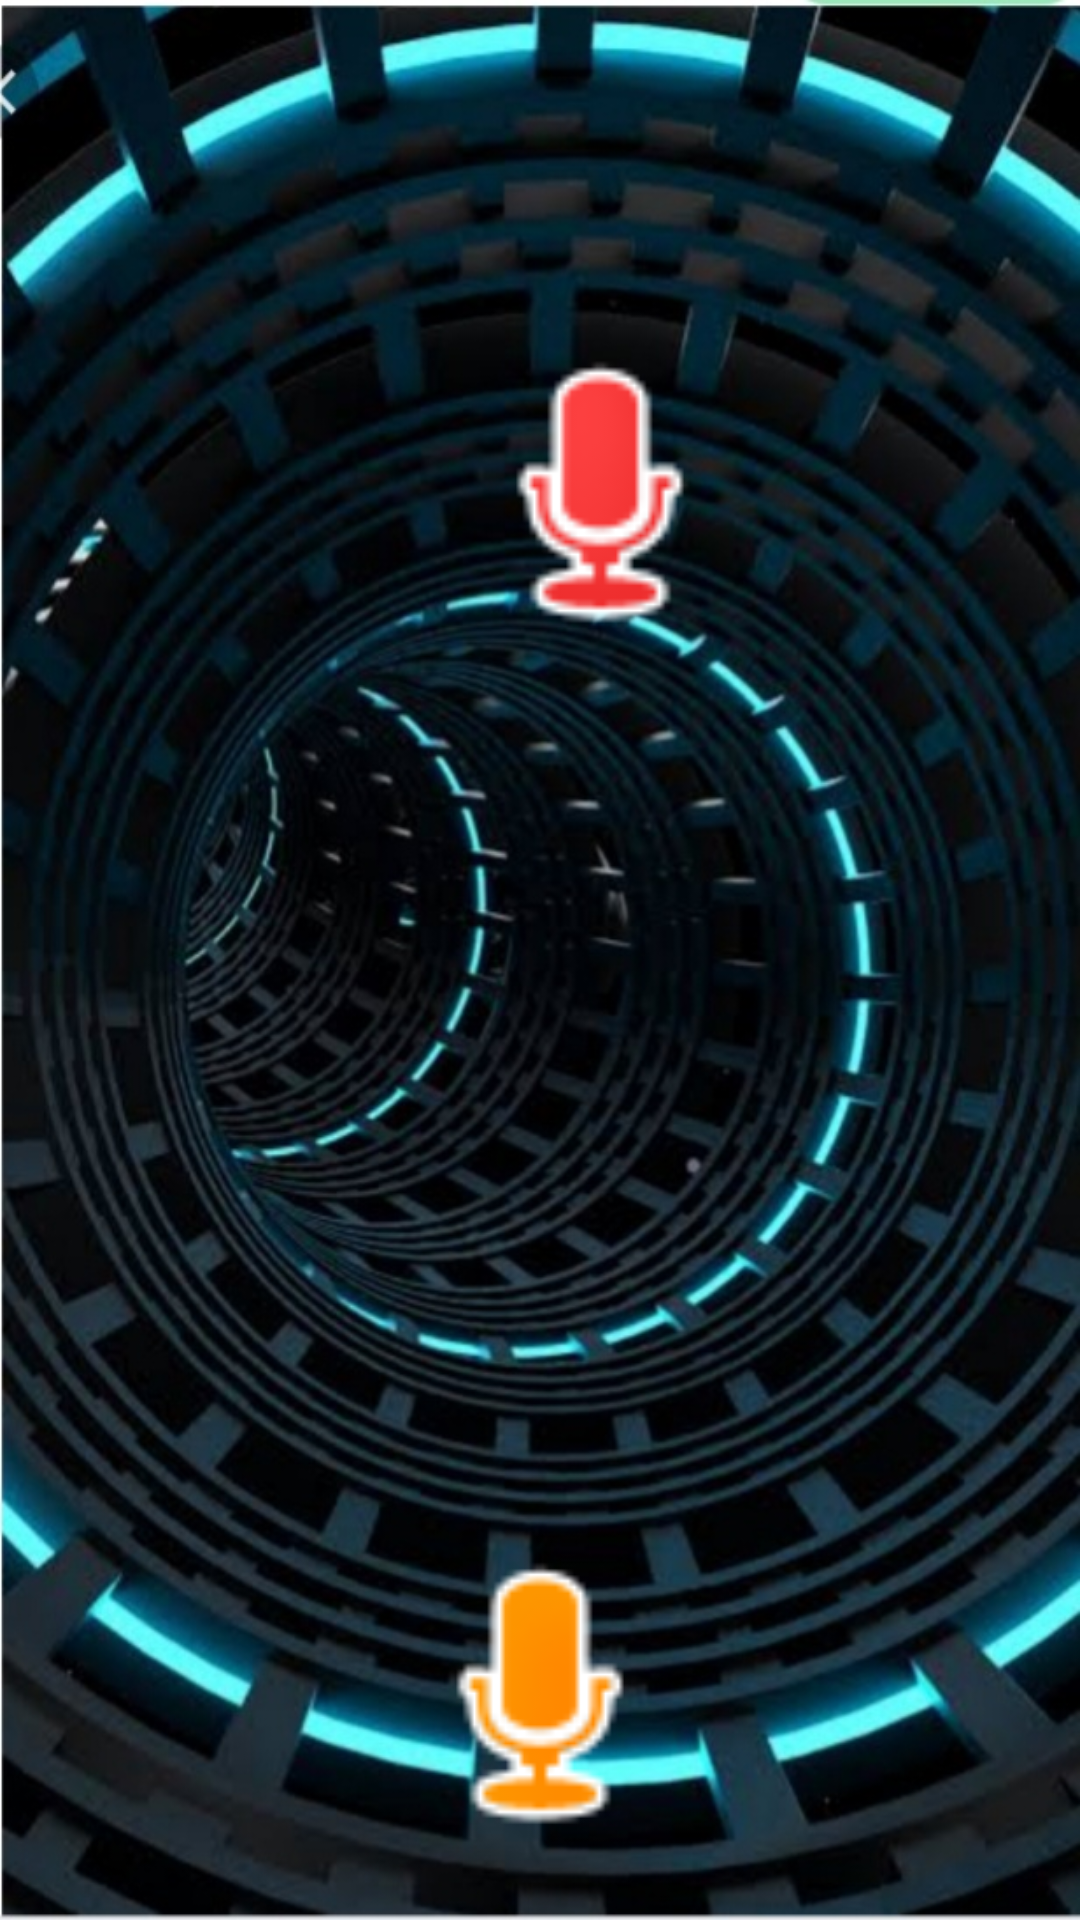

Named icons in this screenshot (1080px×1920px) and their centers, (x=x, y=y):
presence audio away: (x=540, y=1696)
presence audio busy: (x=600, y=495)
